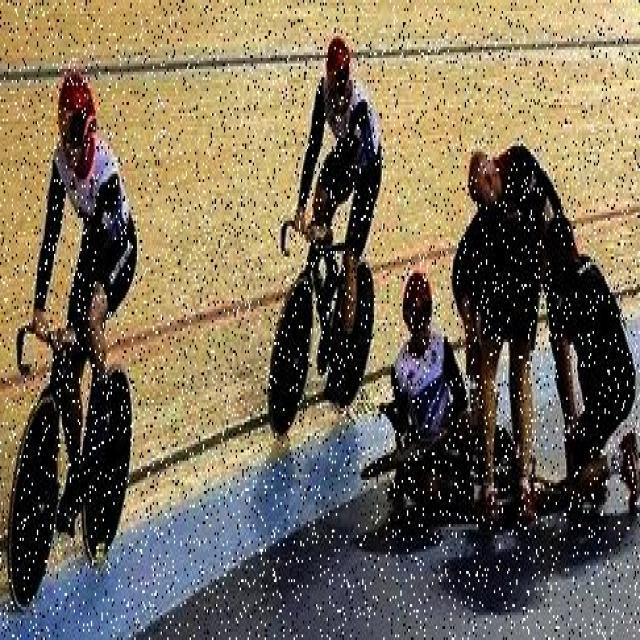fall: (386, 276, 523, 494)
